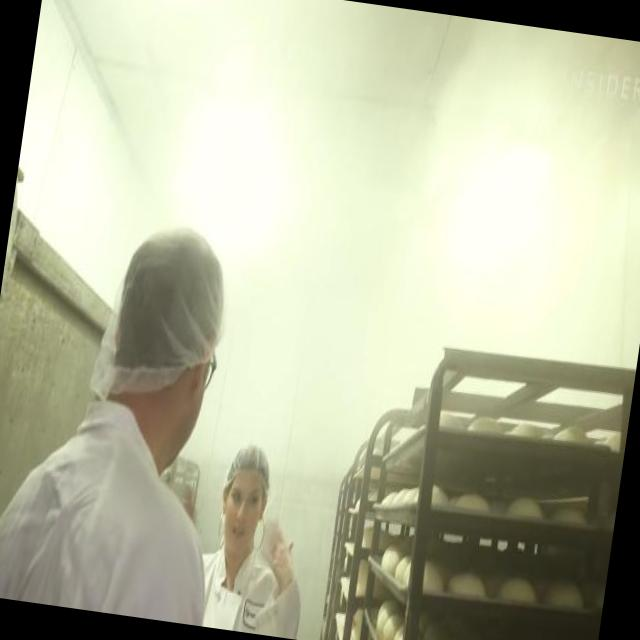hairnet: (99, 220, 231, 376), (222, 440, 276, 487)
